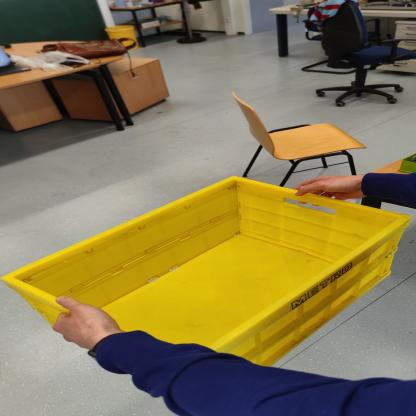box: (0, 172, 413, 374)
